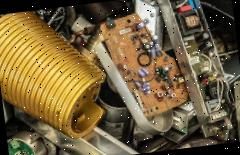electronic: (0, 2, 115, 153), (133, 0, 240, 146), (94, 1, 196, 135)
